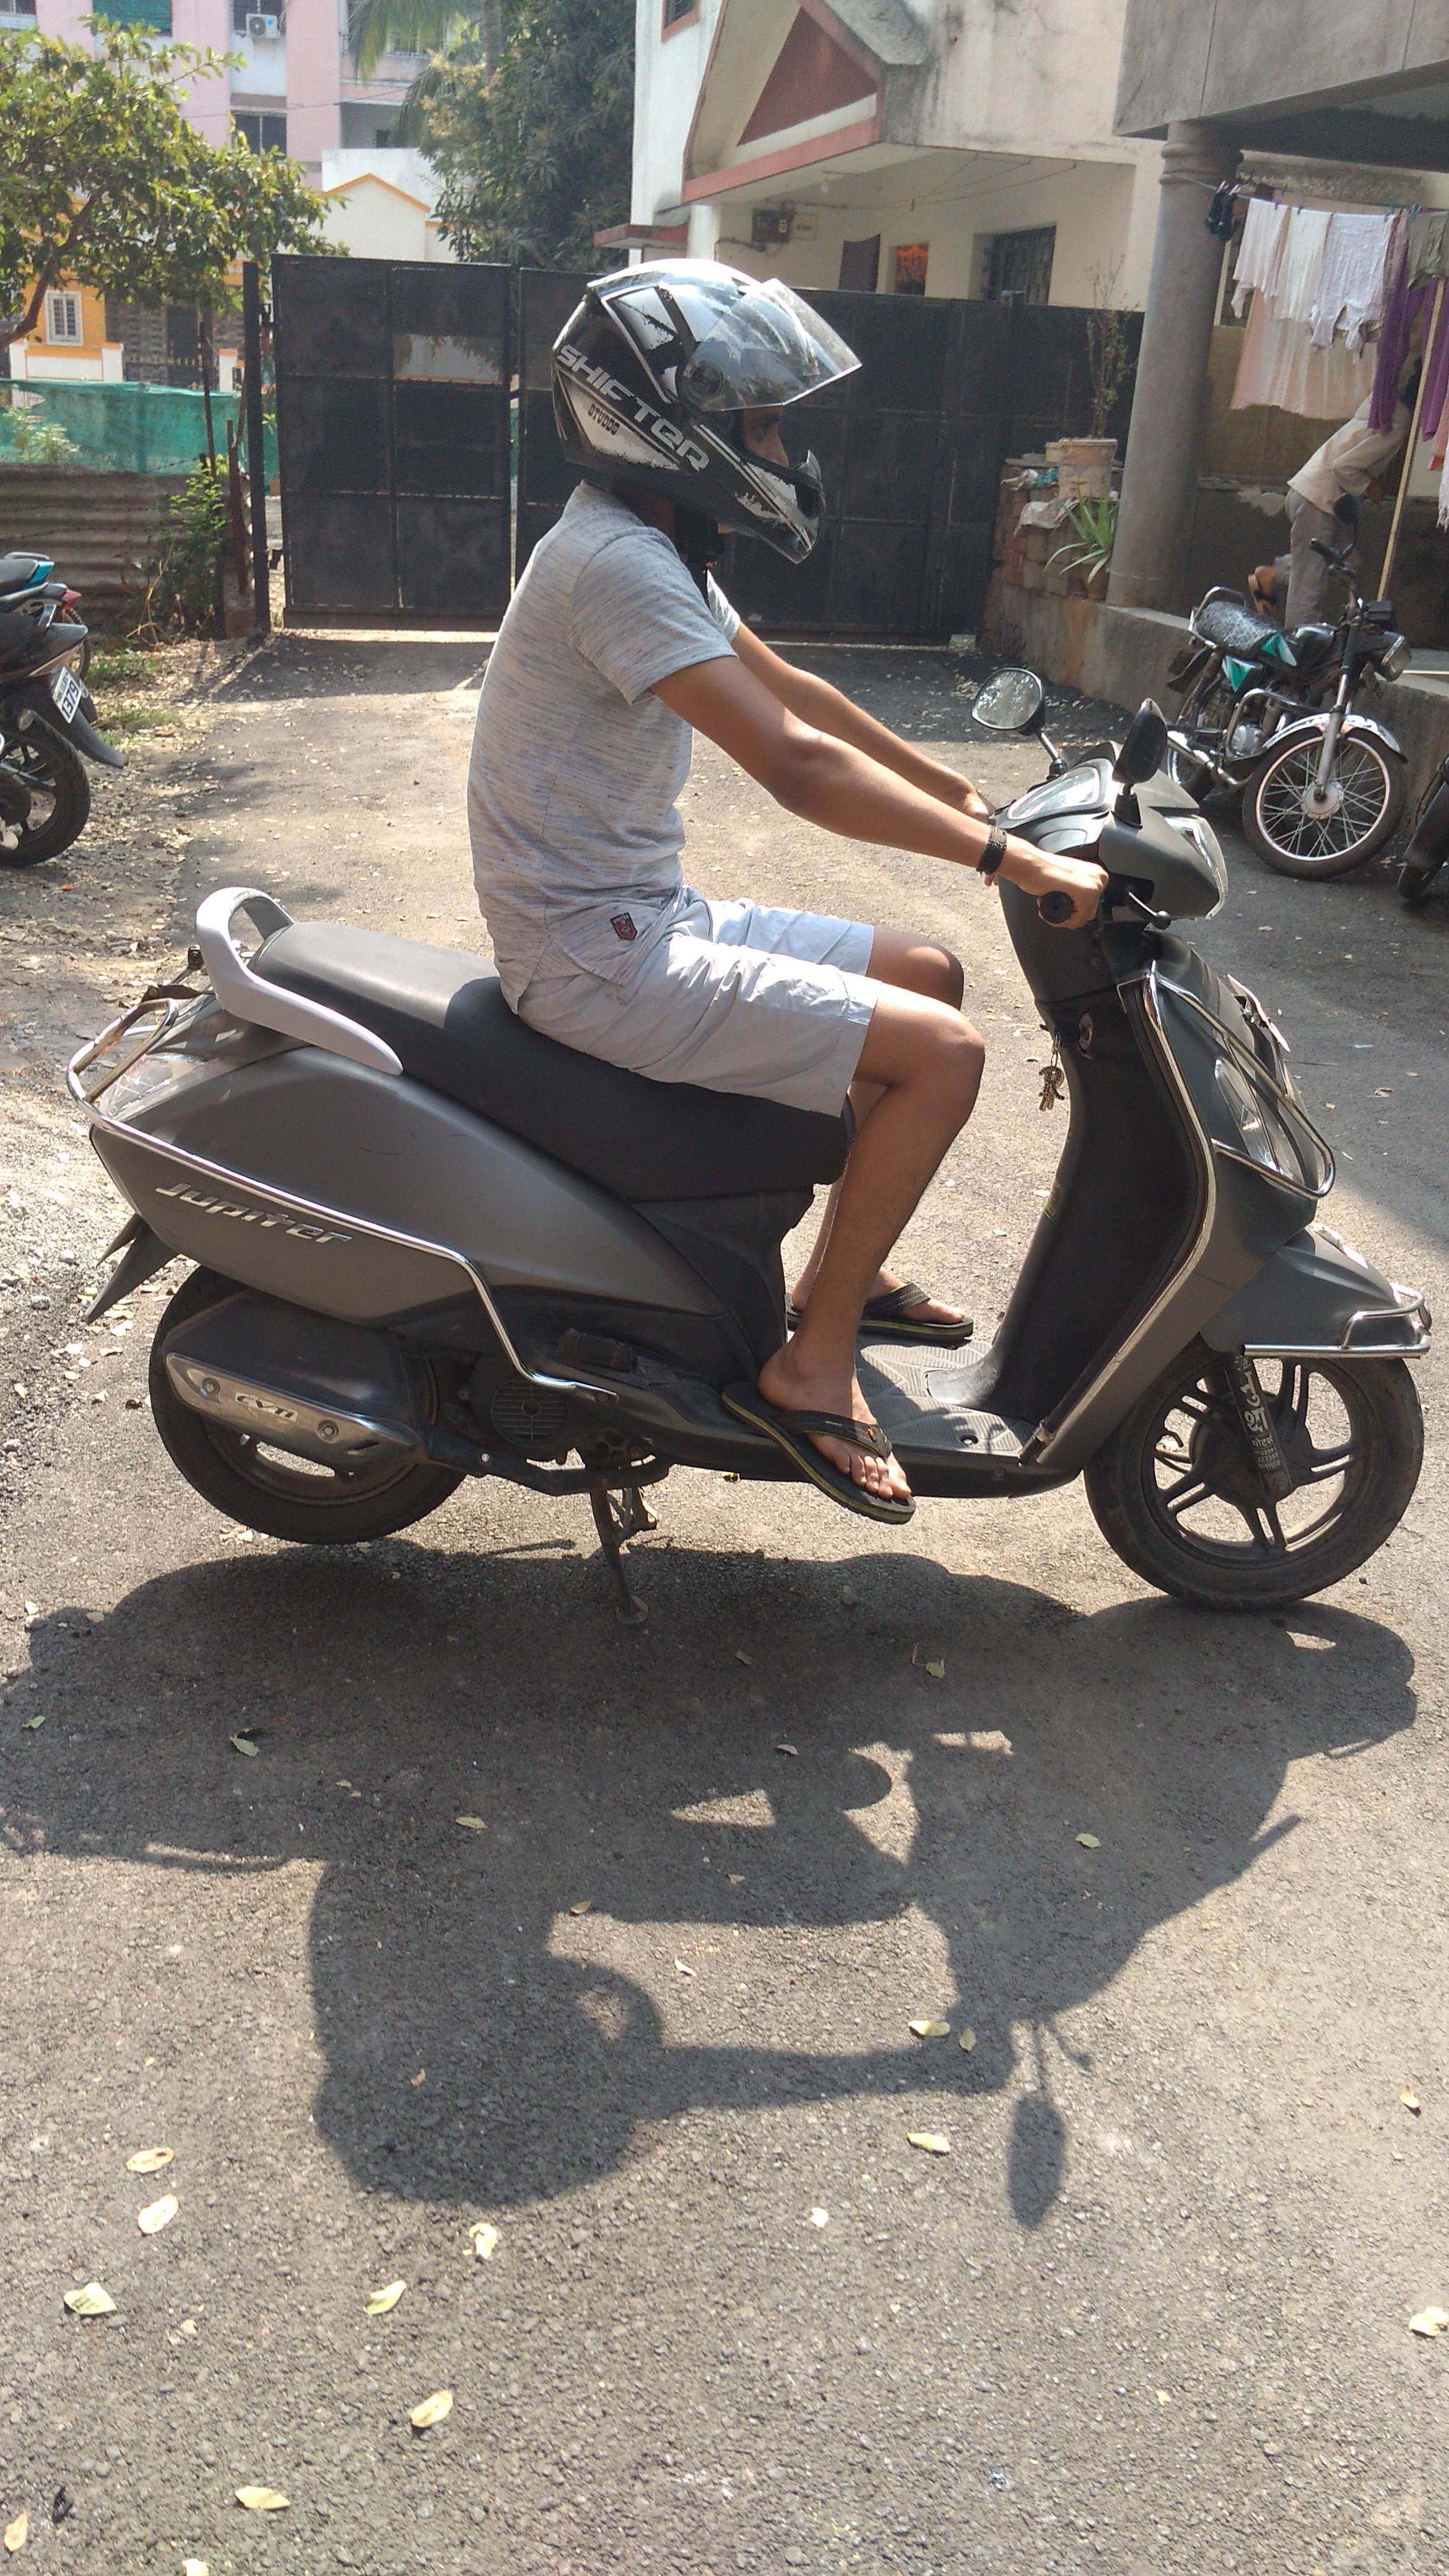helmet: (456, 207, 902, 1069)
